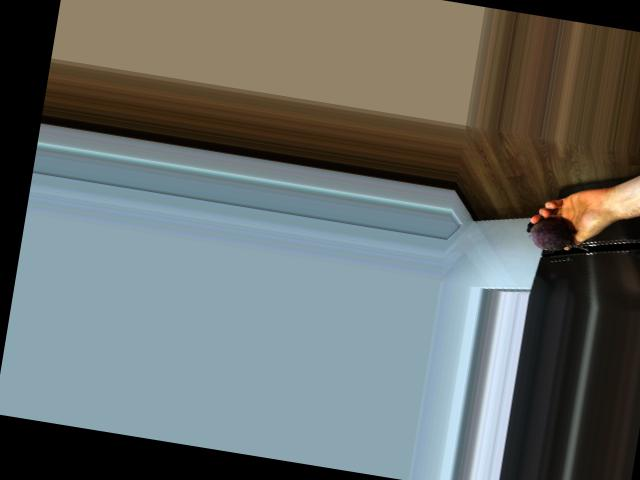beet: (523, 215, 591, 255)
